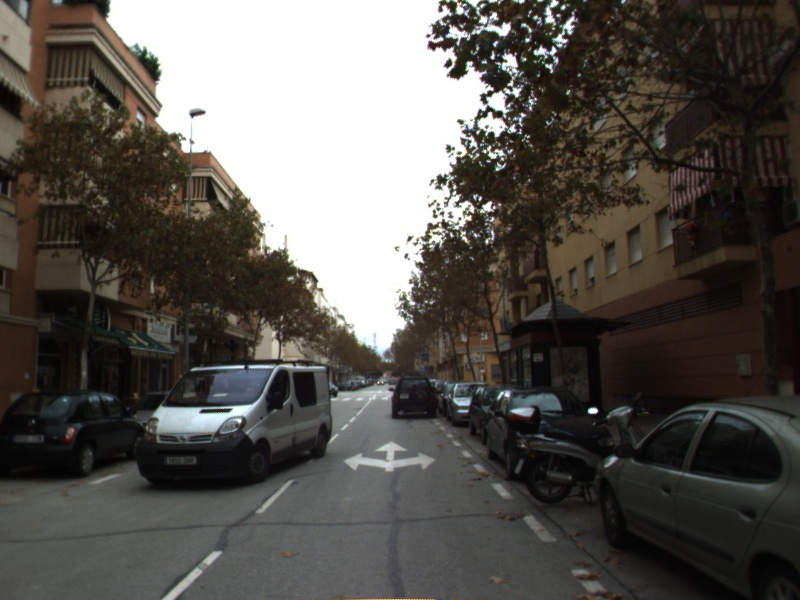STRAIGHT_LEFT_RIGHT: (341, 439, 438, 473)
